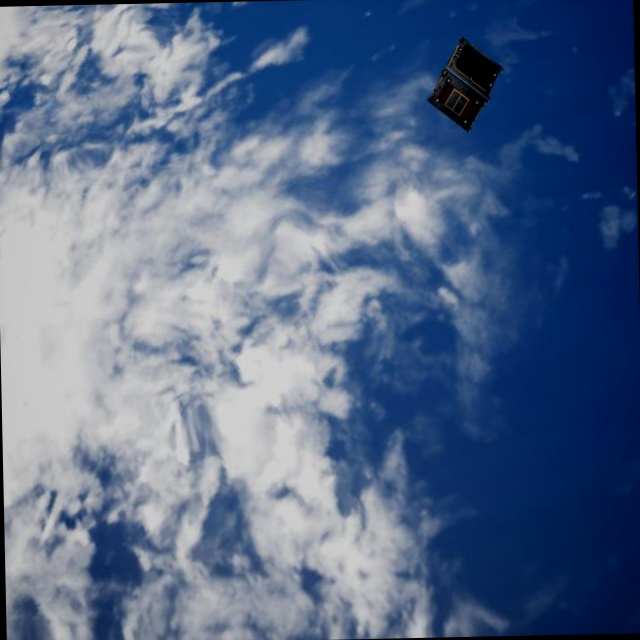satellite: (425, 34, 506, 134)
